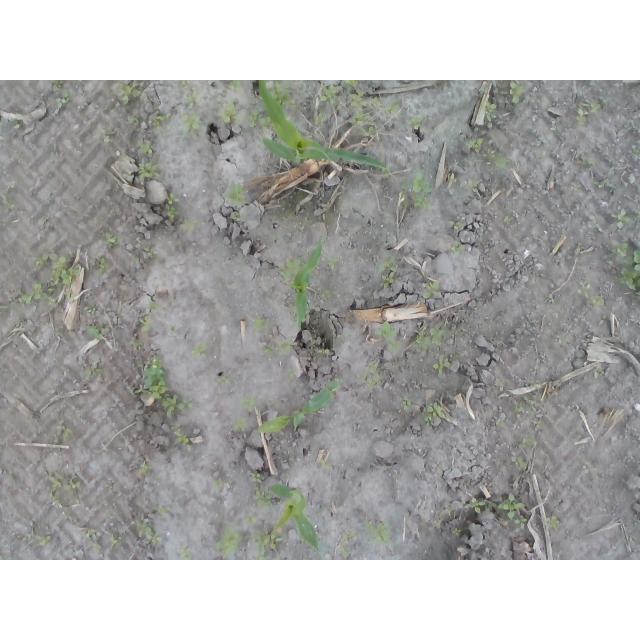Maize: (259, 80, 385, 170), (255, 389, 333, 436), (271, 482, 320, 550), (293, 241, 323, 330)
Weeds: (135, 353, 193, 417), (20, 251, 80, 305), (341, 80, 383, 136), (610, 237, 640, 307), (462, 134, 510, 170), (180, 80, 208, 137), (399, 164, 434, 209), (43, 472, 81, 508), (497, 493, 528, 530), (214, 522, 241, 560), (414, 325, 451, 351), (268, 80, 298, 109), (253, 529, 280, 560), (249, 471, 271, 509), (276, 256, 304, 284), (222, 175, 248, 205), (575, 279, 605, 305), (377, 321, 401, 353), (576, 99, 605, 125), (375, 256, 397, 289), (367, 519, 394, 545), (356, 360, 385, 384), (135, 520, 162, 545), (169, 421, 193, 449), (115, 83, 143, 106), (261, 335, 294, 354), (217, 98, 239, 126), (422, 400, 446, 425), (140, 302, 160, 331), (246, 108, 272, 129), (54, 80, 70, 112), (137, 159, 161, 180), (127, 138, 157, 154), (430, 352, 450, 376), (337, 530, 353, 559), (509, 80, 528, 104), (26, 527, 51, 545), (163, 190, 177, 222), (319, 84, 341, 104), (232, 414, 253, 434), (422, 279, 442, 300), (613, 208, 632, 229), (463, 497, 486, 514), (191, 340, 210, 359), (516, 431, 536, 449), (311, 110, 329, 130), (399, 393, 417, 413), (150, 114, 171, 131), (406, 112, 426, 129), (0, 190, 16, 210), (83, 367, 104, 382), (79, 526, 98, 542), (239, 393, 258, 409), (103, 229, 119, 248), (483, 100, 497, 121), (86, 324, 107, 338), (182, 217, 199, 234), (317, 456, 335, 472), (60, 423, 73, 444), (450, 240, 466, 257), (144, 240, 161, 256), (252, 314, 268, 331), (93, 257, 107, 276), (313, 288, 332, 301), (79, 302, 98, 315), (213, 375, 235, 386), (322, 381, 344, 392), (545, 513, 560, 529), (177, 544, 192, 560), (467, 179, 482, 194), (127, 115, 142, 129), (226, 80, 242, 93), (513, 458, 528, 471), (511, 400, 526, 413), (244, 513, 257, 527), (591, 179, 609, 189), (111, 534, 121, 551), (154, 504, 171, 514), (386, 102, 400, 114), (103, 128, 113, 144), (138, 462, 150, 475), (449, 220, 464, 230), (495, 416, 506, 429), (327, 255, 337, 269), (129, 339, 143, 349), (54, 327, 65, 338), (213, 479, 225, 489), (446, 175, 458, 185), (276, 520, 289, 529), (231, 211, 242, 221), (503, 215, 513, 225), (381, 167, 391, 177), (583, 159, 594, 168), (451, 528, 462, 537), (544, 298, 558, 305), (535, 420, 546, 428), (318, 348, 330, 354), (0, 304, 10, 311), (95, 544, 102, 553), (288, 368, 295, 377), (169, 324, 176, 333), (315, 510, 322, 518), (72, 80, 81, 85)
